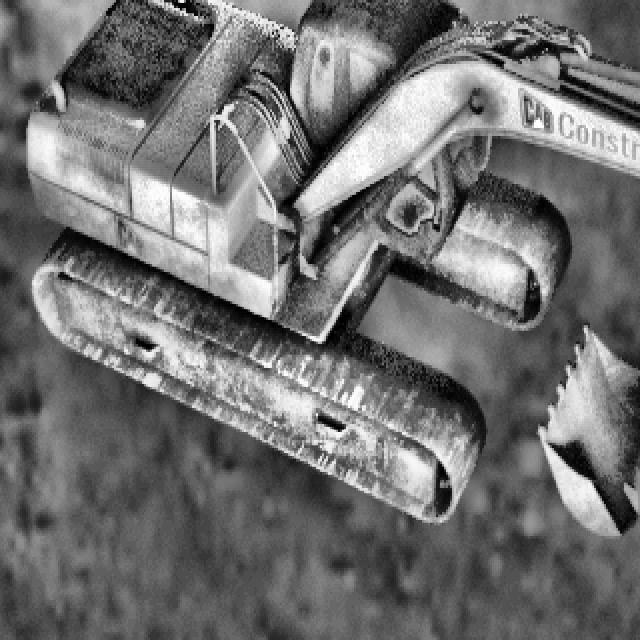excavator: (26, 0, 640, 533)
